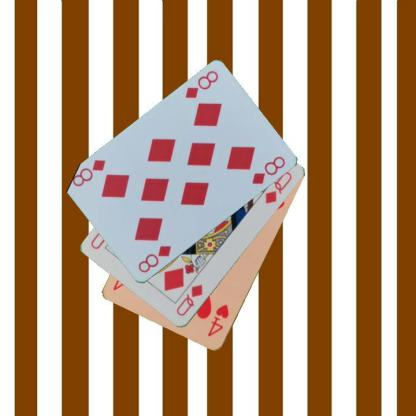4h: (205, 302, 231, 338)
8d: (182, 68, 219, 100), (135, 244, 173, 274)
Qd: (173, 282, 204, 318)
